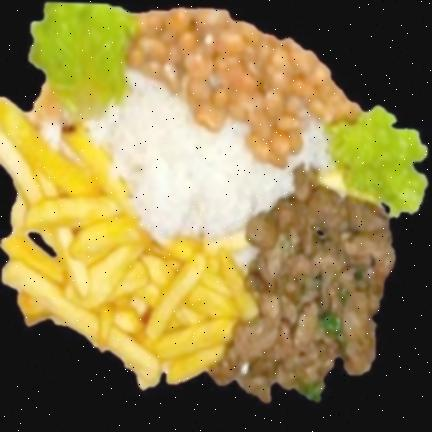beans: (128, 8, 360, 165)
meat: (209, 165, 395, 401)
potato: (0, 103, 258, 387)
rice: (88, 71, 330, 238)
salad: (30, 2, 137, 120)
